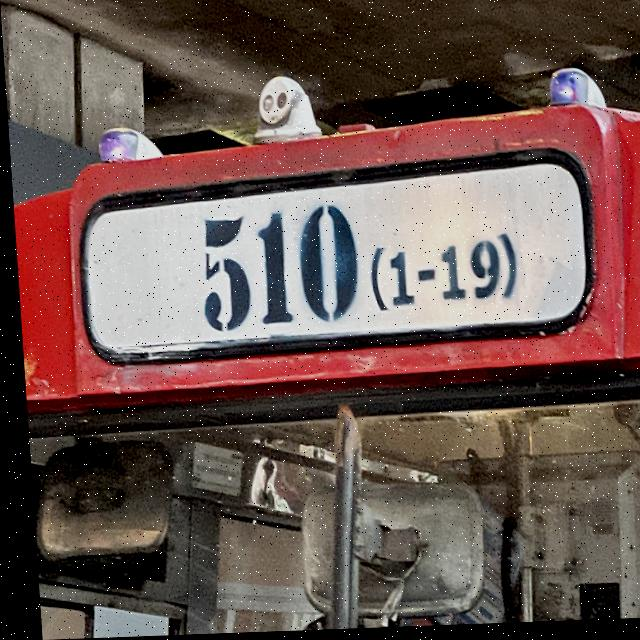BMTA-bus: (4, 55, 640, 640)
Bus Line Number: (190, 181, 522, 338)
